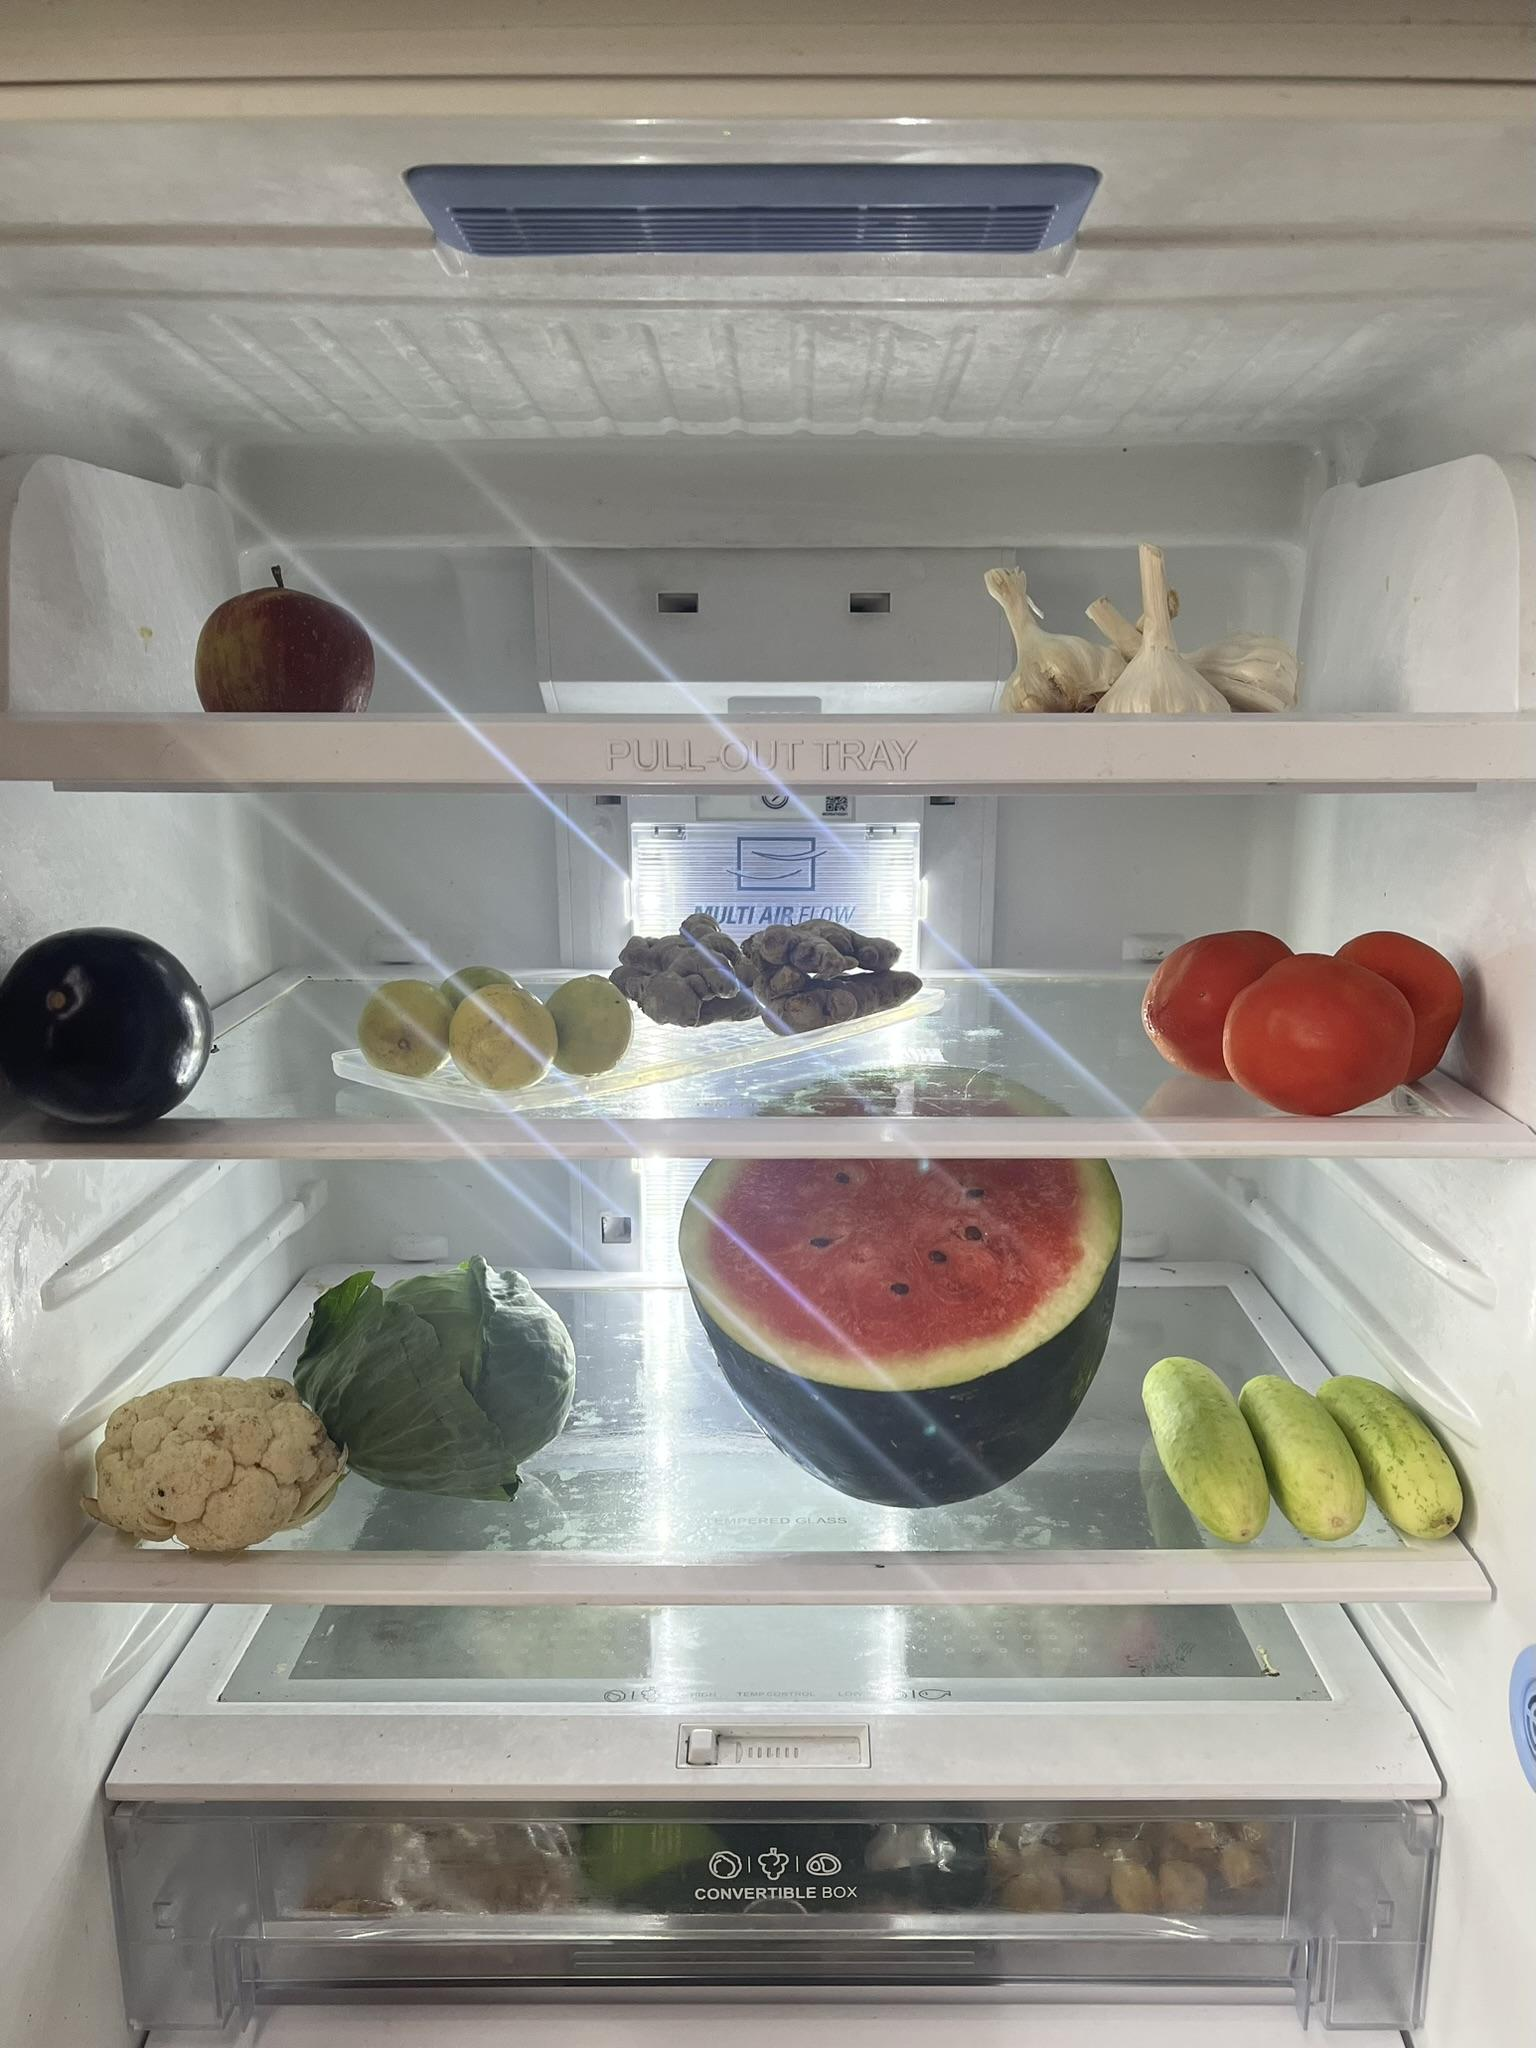apple: (187, 560, 381, 713)
bringal: (6, 924, 237, 1127)
cabbage: (303, 1263, 573, 1503)
cauliflower: (87, 1366, 347, 1553)
cucumber: (1150, 1337, 1483, 1546)
garlic: (979, 556, 1313, 713)
ginger: (613, 903, 937, 1034)
lemon: (350, 959, 637, 1090)
tomato: (1133, 913, 1470, 1113)
watermelon: (676, 1077, 1141, 1521)
